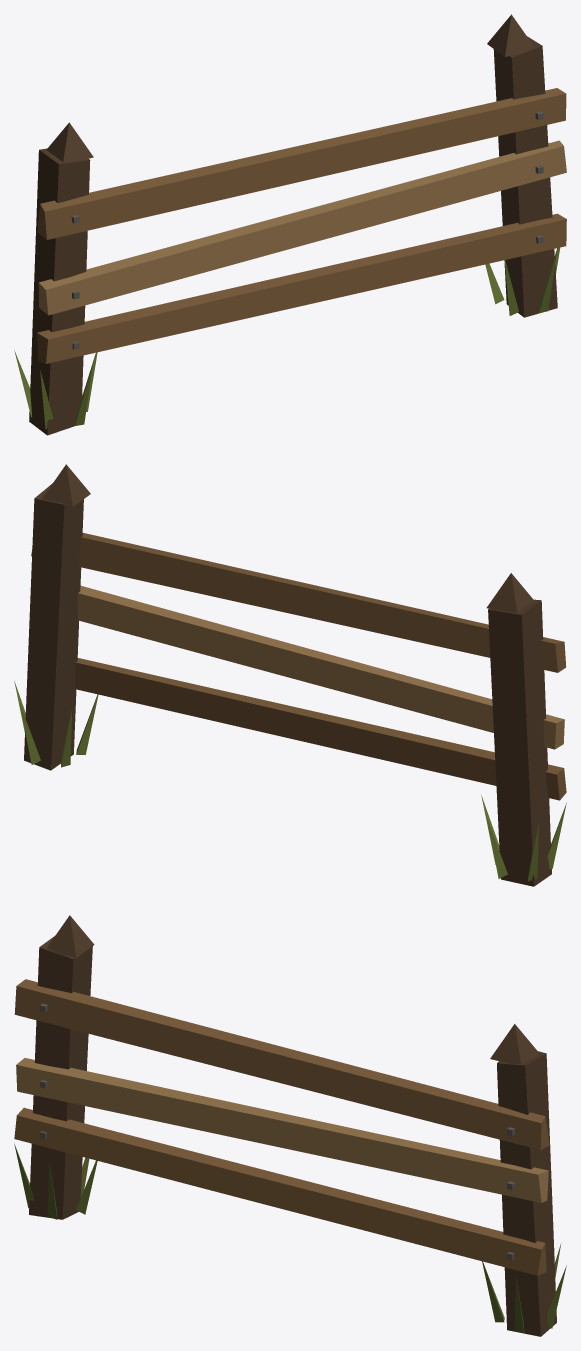
File: fence.glb
3 views of the same model, one above another, from view 1: azimuth 30°, elevation 25°; view 2: azimuth 150°, elevation 25°; view 3: azimuth 330°, elevation 25° (orthographic).
Parts seen in each view (by area): view 1: fence; view 2: fence; view 3: fence.
Boxes of the visible parts, x1=… form: fence: x1=14, y1=14, x2=566, y2=435; fence: x1=14, y1=464, x2=566, y2=886; fence: x1=14, y1=915, x2=566, y2=1336.
Bounding box in the file's own units: 2.43 × 1.3 × 0.3435.
